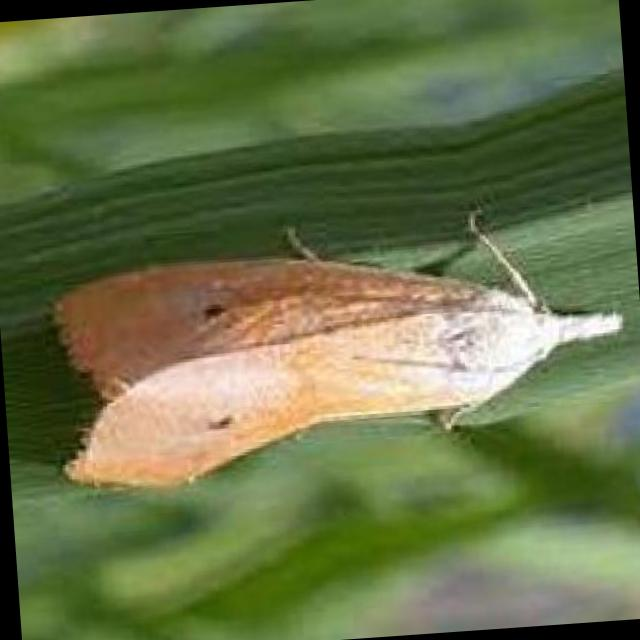stem-borer: (44, 198, 634, 491)
